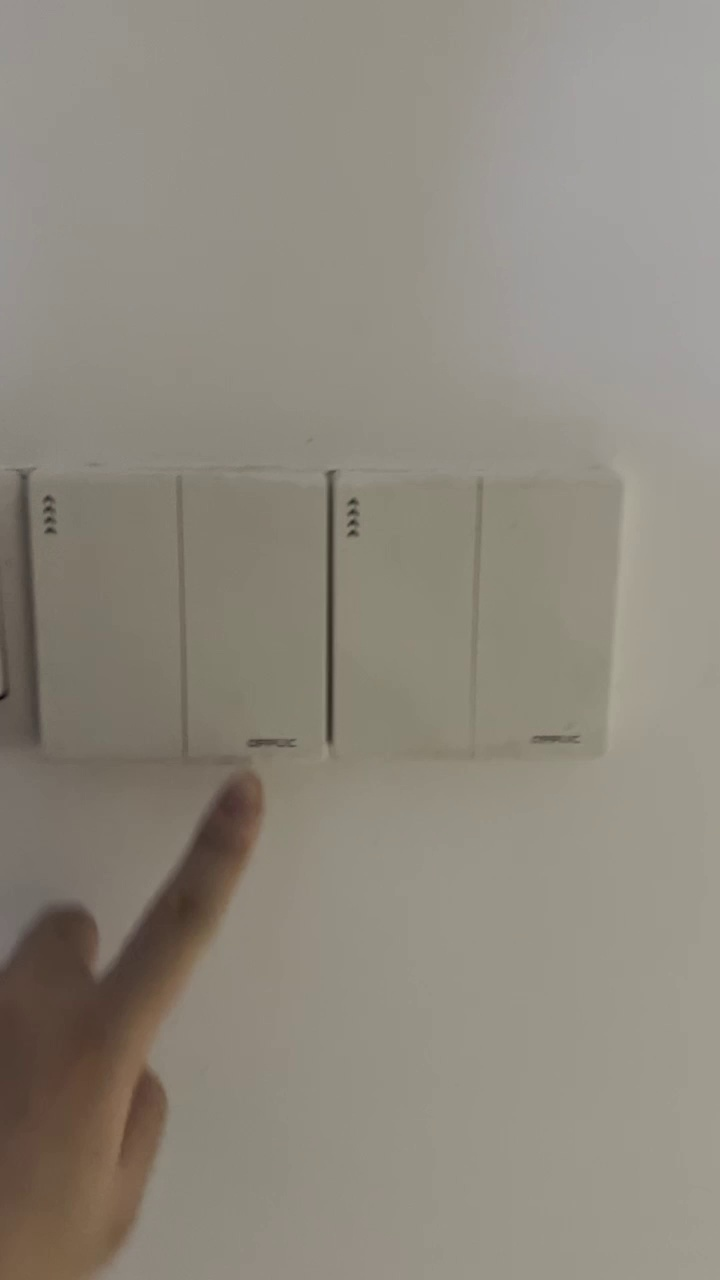button1: (183, 476, 330, 757), (36, 478, 176, 760), (481, 484, 617, 757), (338, 480, 472, 753)
